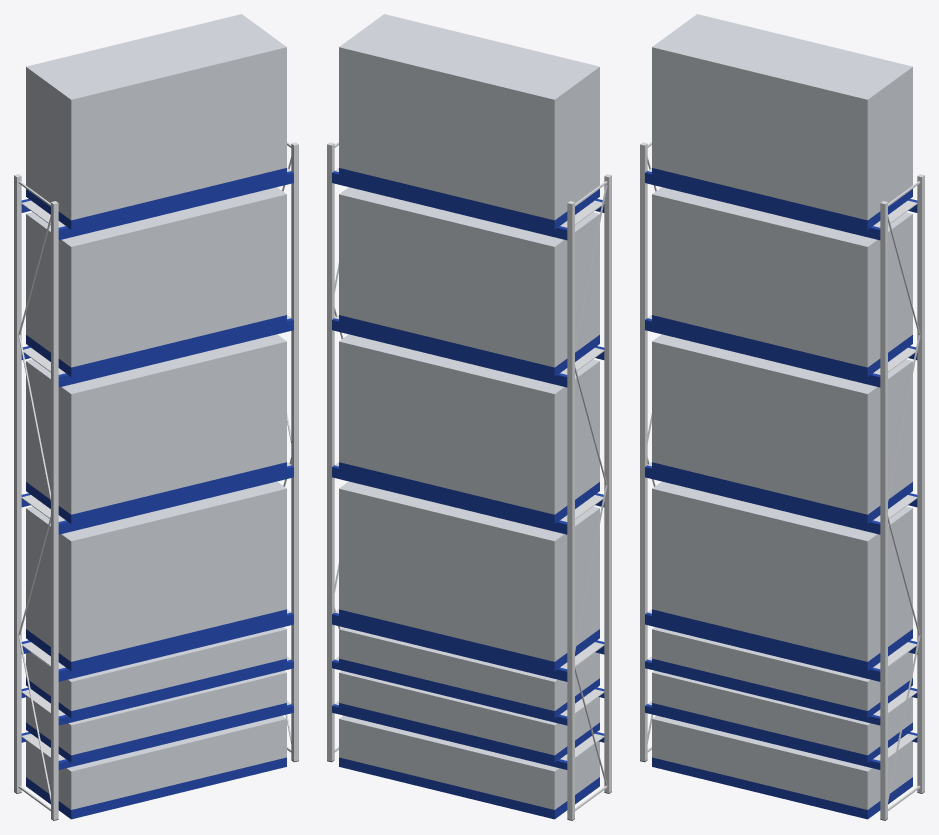
The model's file is SM_MPR_CADRack_F7_W144_Standard_LOD2.fbx.
3 renders of one model, left to right at view 1: azimuth 30°, elevation 25°; view 2: azimuth 150°, elevation 25°; view 3: azimuth 330°, elevation 25°, orthographic.
Parts seen in each view (by area): view 1: SM_MPR_CADRack_F7_W144_Standard_LOD2; view 2: SM_MPR_CADRack_F7_W144_Standard_LOD2; view 3: SM_MPR_CADRack_F7_W144_Standard_LOD2.
Boxes of the visible parts, box(x1,y1,x2,y2) form: SM_MPR_CADRack_F7_W144_Standard_LOD2: box(14, 14, 298, 820); SM_MPR_CADRack_F7_W144_Standard_LOD2: box(327, 14, 611, 820); SM_MPR_CADRack_F7_W144_Standard_LOD2: box(640, 14, 924, 820).
Bounding box in the file's own units: 381 × 122 × 1068.
